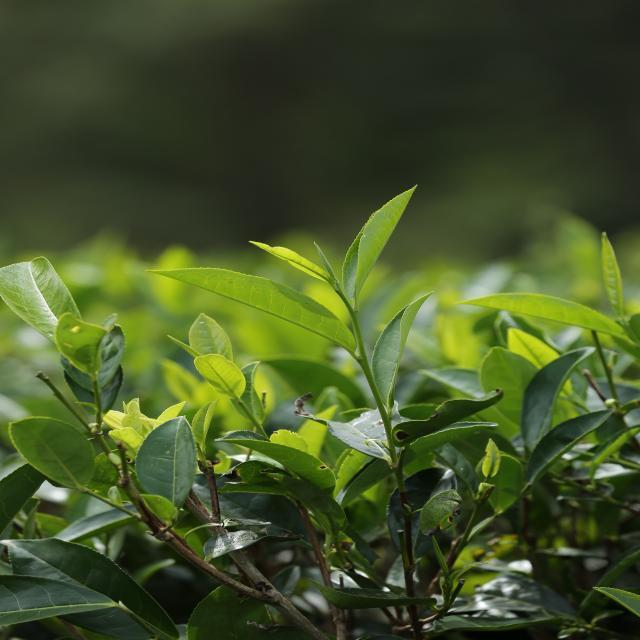Stem: (351, 312, 358, 320)
